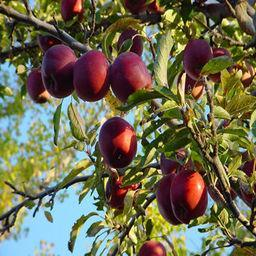apple: (97, 115, 136, 170), (110, 53, 152, 103), (72, 48, 111, 101), (169, 172, 208, 222), (43, 44, 78, 97), (183, 39, 211, 78), (106, 175, 137, 208), (59, 1, 82, 22), (136, 240, 165, 255)
